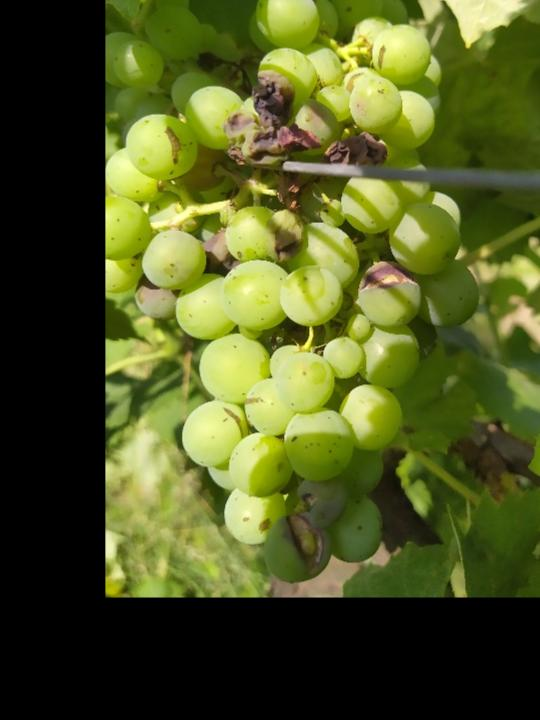grape: (112, 0, 483, 588)
